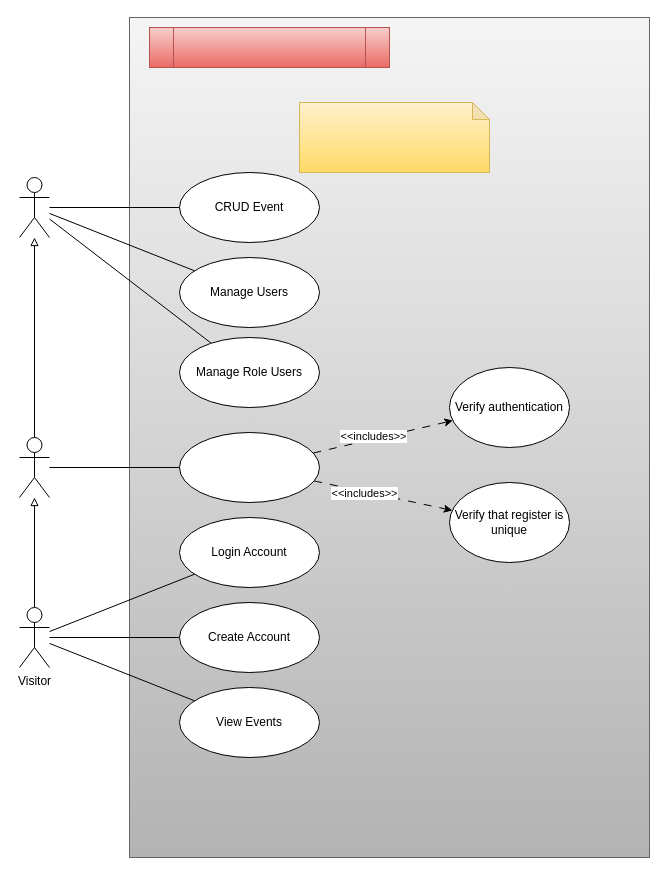
This 667x875 diagram has some shape labels left out. The shapes that lost their labels are listed below. From the top down, each one's centre as x and y in pixels, then its label:
the point at 269,47: Event Management System
the point at 394,137: CRUD = Create, Read, Update , Delete
the point at 34,207: Admin
the point at 34,467: User
the point at 249,467: Register Events
